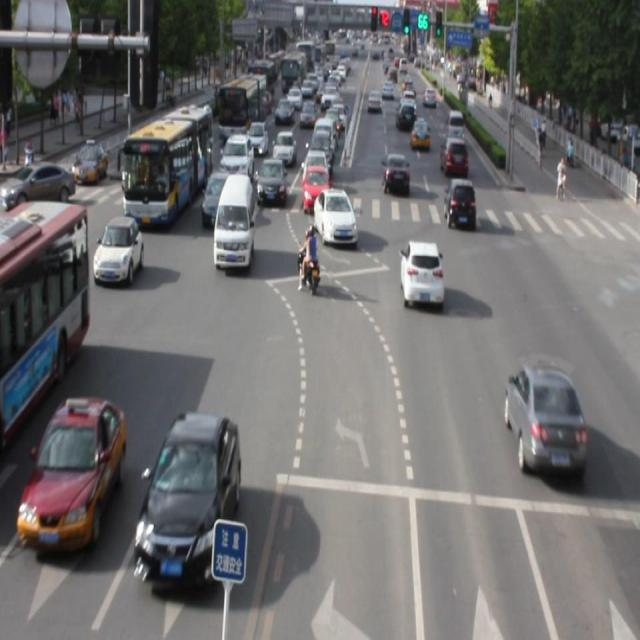car: (137, 409, 242, 585), (19, 398, 122, 548), (503, 364, 583, 479), (94, 215, 142, 284), (399, 238, 443, 306), (312, 183, 356, 244), (444, 175, 474, 230), (202, 169, 230, 226)
truck: (213, 174, 253, 267)
van: (0, 199, 89, 420), (125, 106, 212, 225)
